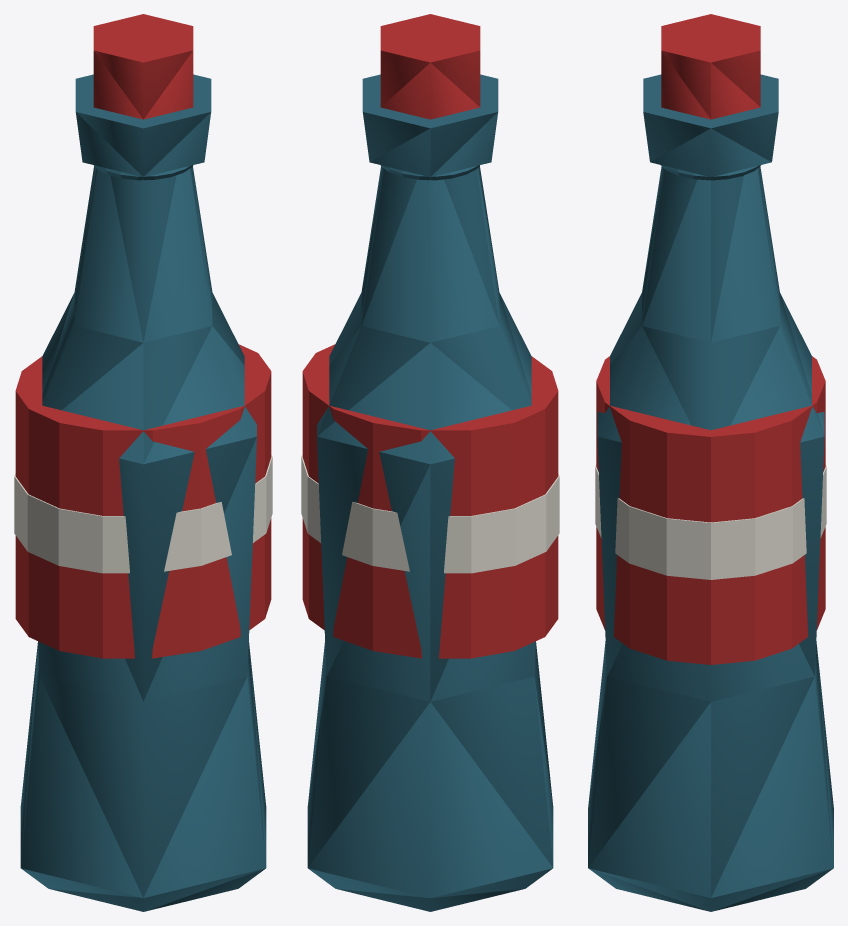
Rendered from soda-bottle.glb.
The picture shows the model from 3 angles, left to right: view 1: azimuth 30°, elevation 25°; view 2: azimuth 150°, elevation 25°; view 3: azimuth 270°, elevation 25°; orthographic projection.
Parts seen in each view (by area): view 1: soda-bottle; view 2: soda-bottle; view 3: soda-bottle.
Part boxes in pixels (x1,y1,x2,y2): soda-bottle: (14, 14, 272, 911); soda-bottle: (301, 14, 559, 911); soda-bottle: (588, 14, 833, 911).
Bounding box in the file's own units: 0.1805 × 0.5804 × 0.1563.
